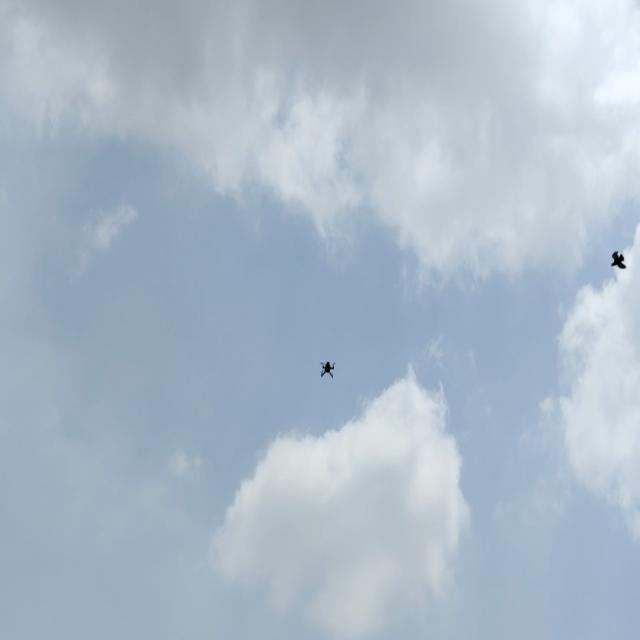drone: (317, 356, 340, 380)
